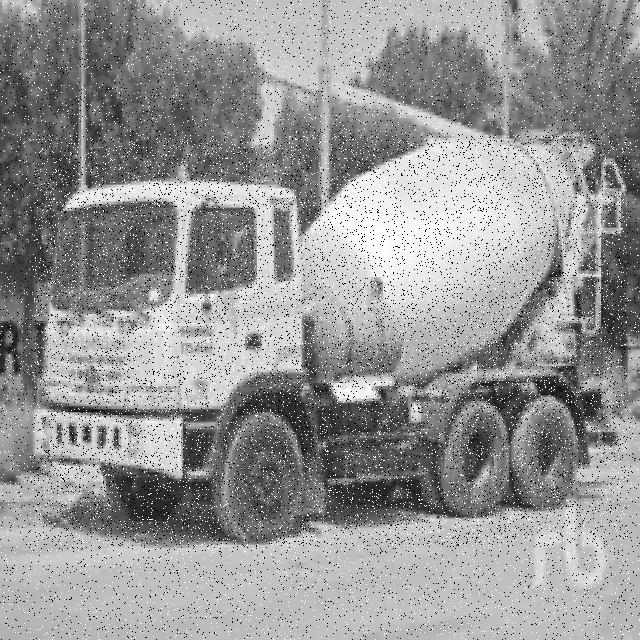Concrete Mixer: (34, 135, 627, 546)
